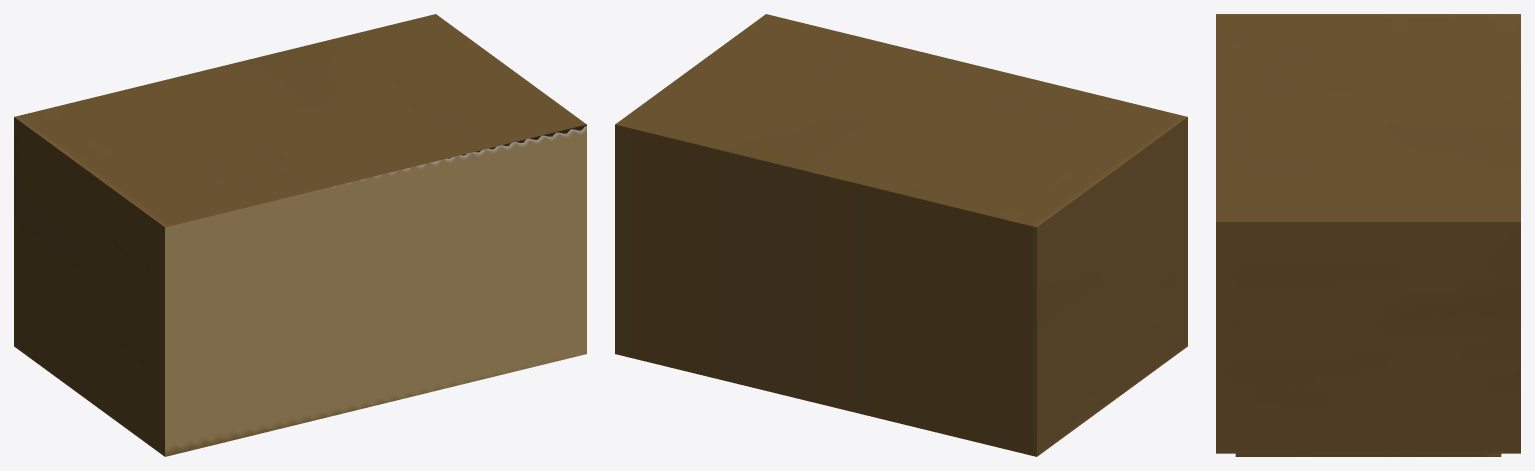
File: pz_counter_birchwood_wall.obj
The picture shows the model from 3 angles, left to right: view 1: azimuth 30°, elevation 25°; view 2: azimuth 150°, elevation 25°; view 3: azimuth 270°, elevation 25°; orthographic projection.
Size of the model in its own units: 1 by 0.536 by 0.62.
Materials: 1 (1 with a texture image).
